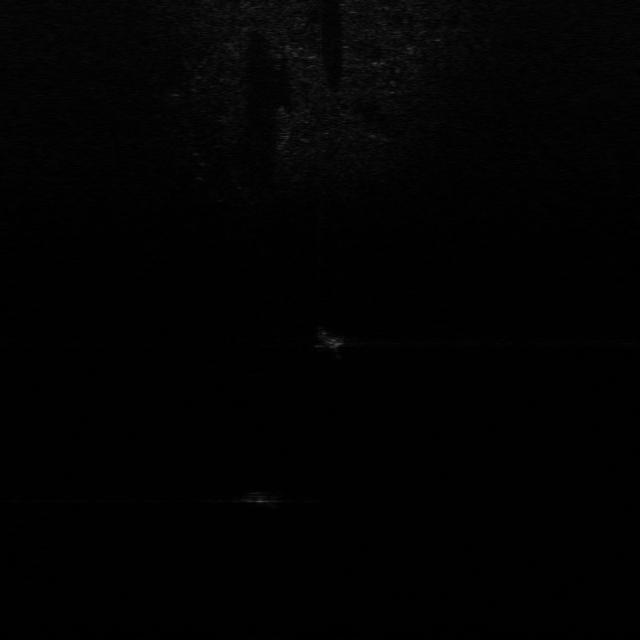cube: (239, 486, 282, 509)
square cage: (312, 324, 347, 354)
